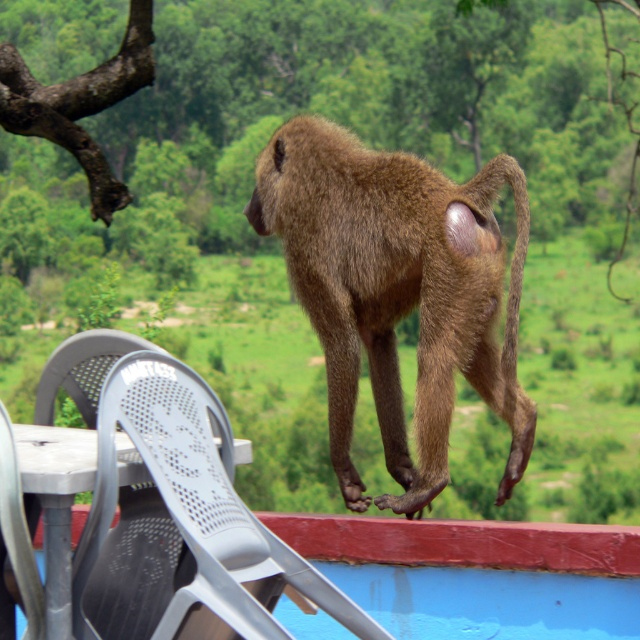Monkey: (244, 110, 538, 518)
